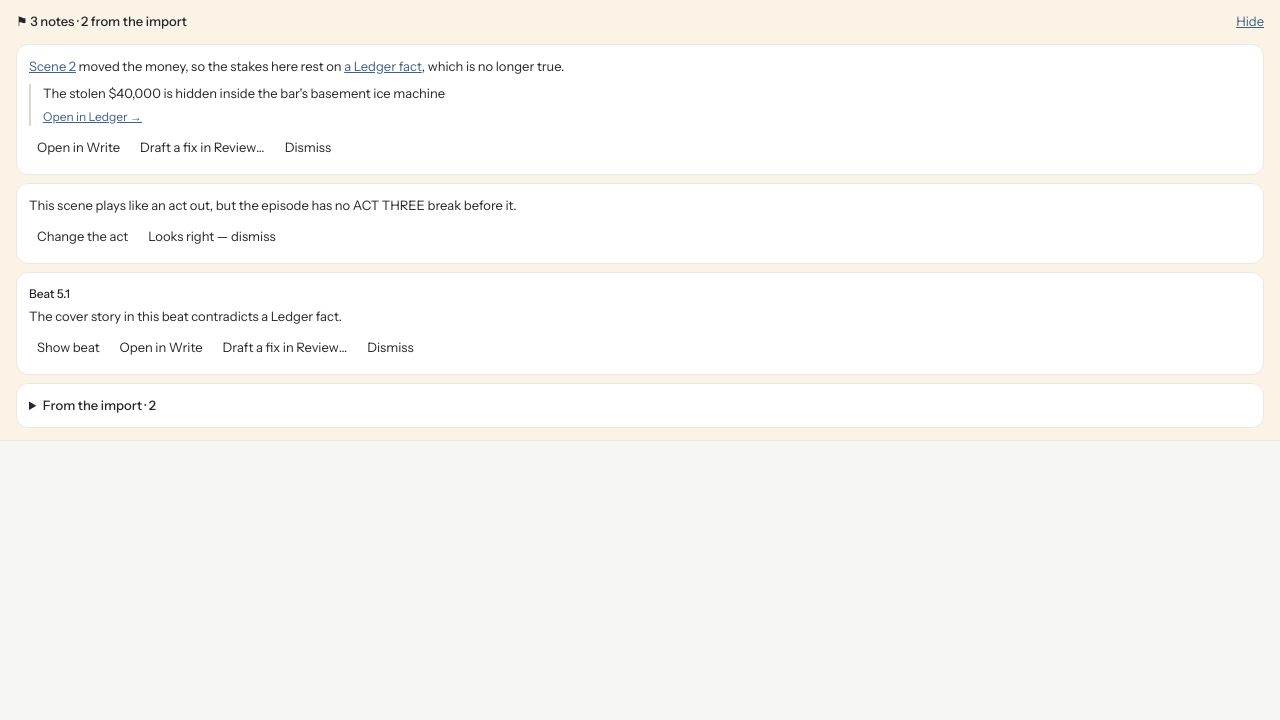
Test case: NotesStrip › opening the editor sends nothing; it is prefilled in words with the explainer
Click the button "Draft a fix in Review…" below ", which is no longer true." at {"x": 202, "y": 148}, box [132, 134, 273, 162]
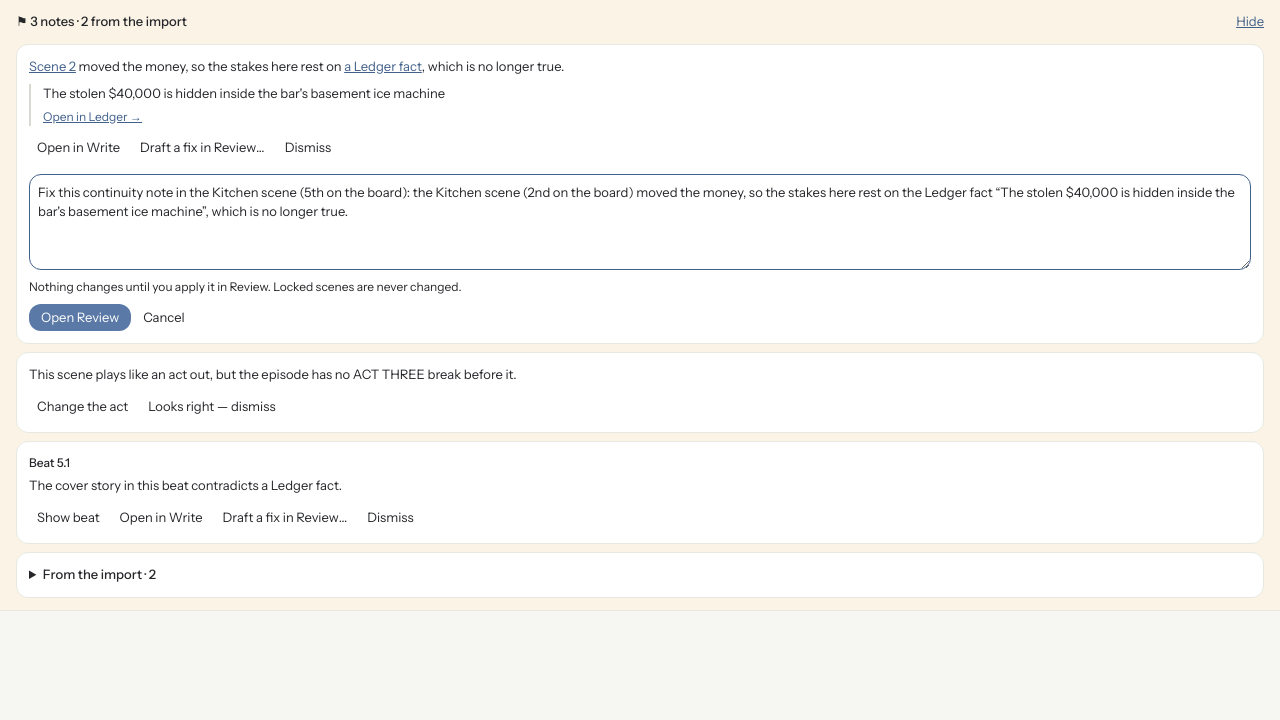
Result: the element with test id "fix-editor" is shown at [29, 170, 1251, 331]
